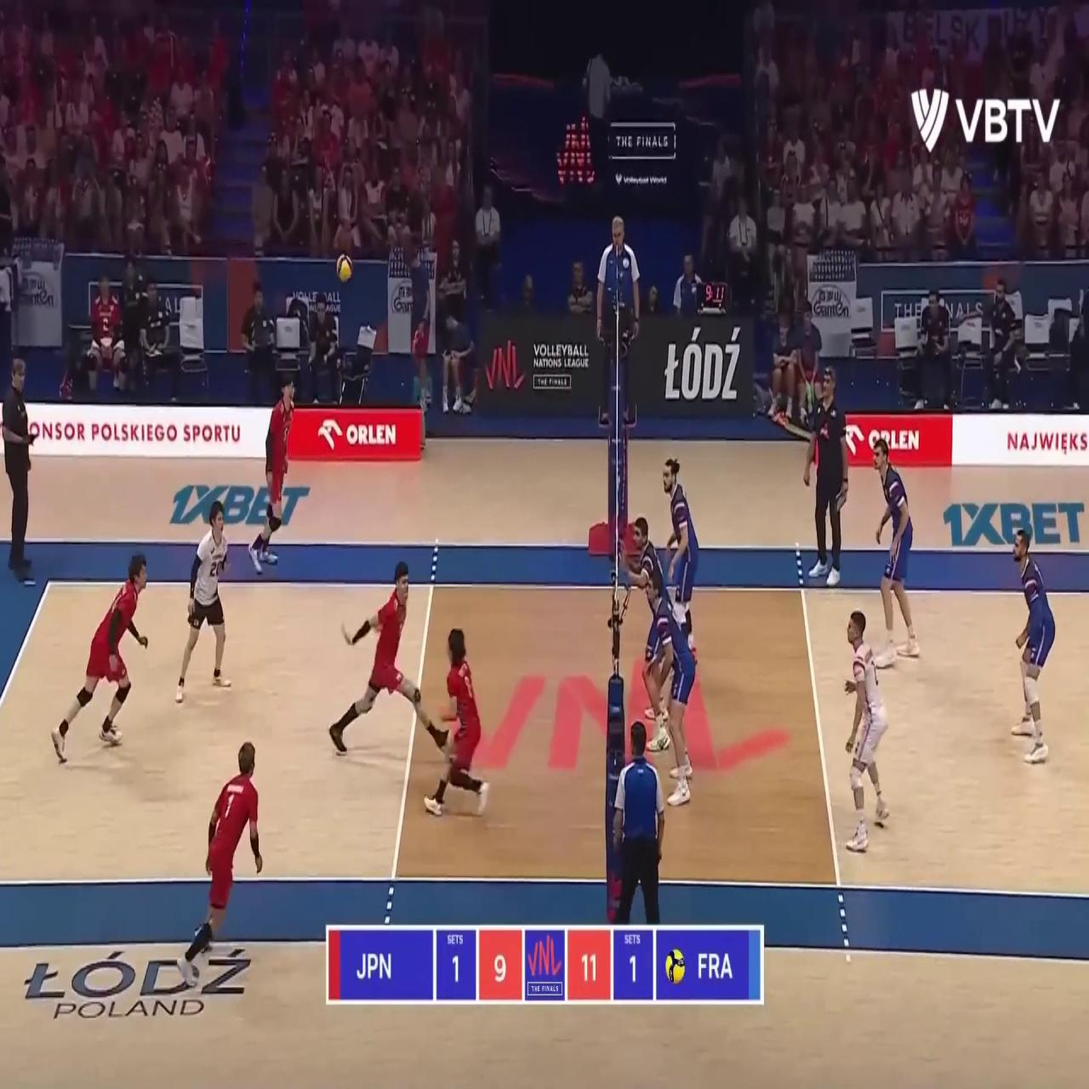ball: (337, 254, 352, 281)
